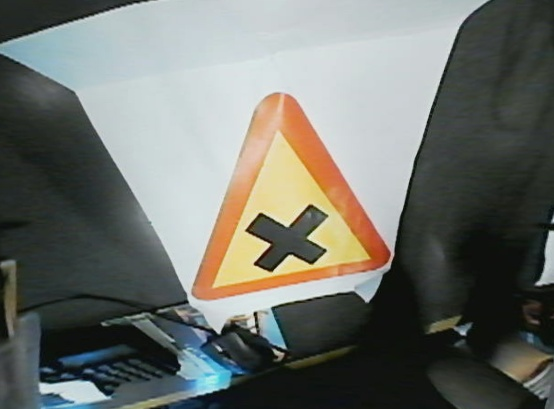junction: (169, 86, 401, 319)
